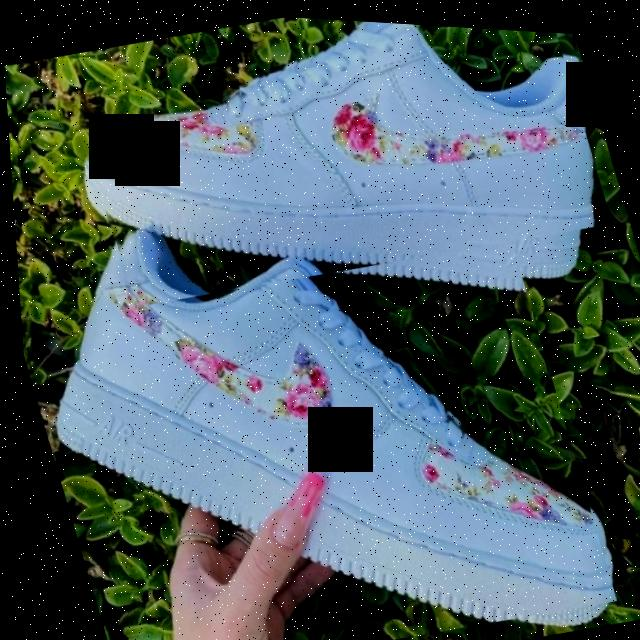shoe: (21, 192, 613, 640), (53, 2, 615, 329)
